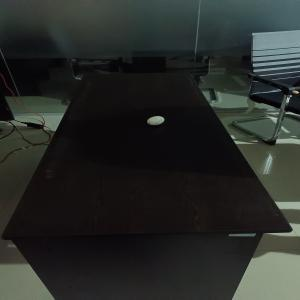Egg: (143, 115, 166, 126)
